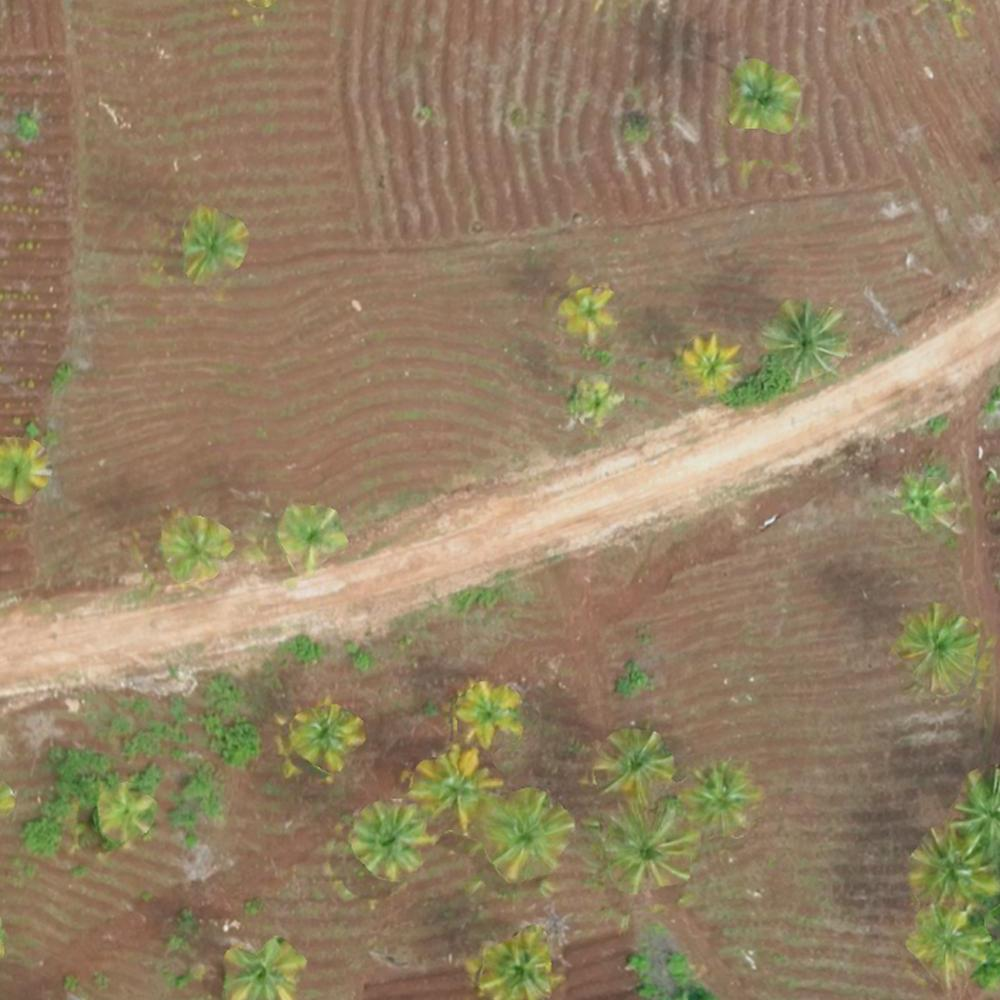Palm: (600, 799, 699, 890), (893, 605, 977, 694), (412, 748, 499, 829), (486, 790, 567, 877), (910, 827, 996, 906), (768, 297, 850, 378), (354, 797, 428, 879), (908, 905, 990, 979), (474, 930, 555, 997), (595, 730, 672, 800), (685, 759, 755, 832), (155, 512, 231, 578), (728, 62, 800, 130), (221, 936, 296, 1000), (291, 705, 362, 771), (179, 207, 246, 276), (278, 497, 345, 562), (457, 679, 522, 745), (94, 784, 162, 844), (899, 472, 960, 535), (1, 439, 53, 508), (557, 283, 618, 341), (679, 338, 740, 392)
